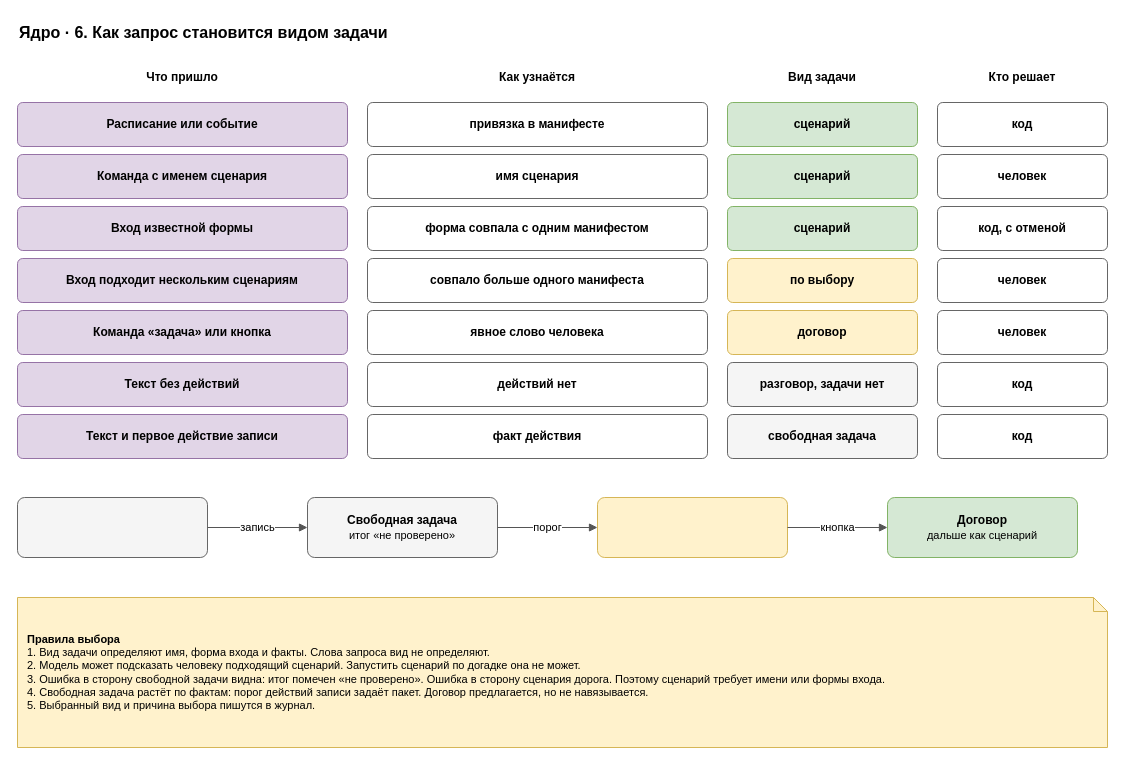
Some shapes in this 1125 by 765 pixel diagram are drawn without their labels. Here are the shapes that lost their labels. From the top down, the box of each, then its label:
(16, 496, 208, 558): Разговор действий нет
(596, 496, 788, 558): Предложение договора работа не останавливается
